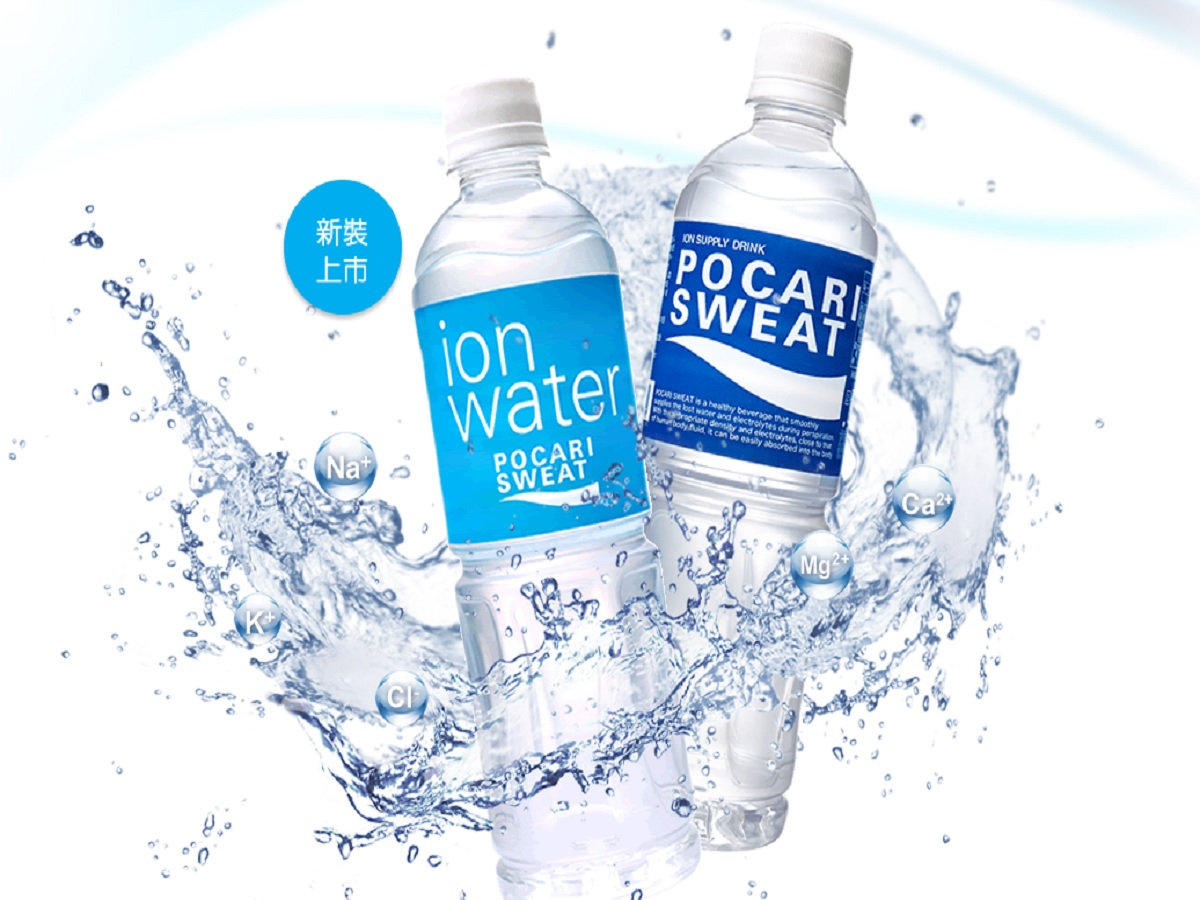POCARI SWEAT: (640, 24, 887, 851)
